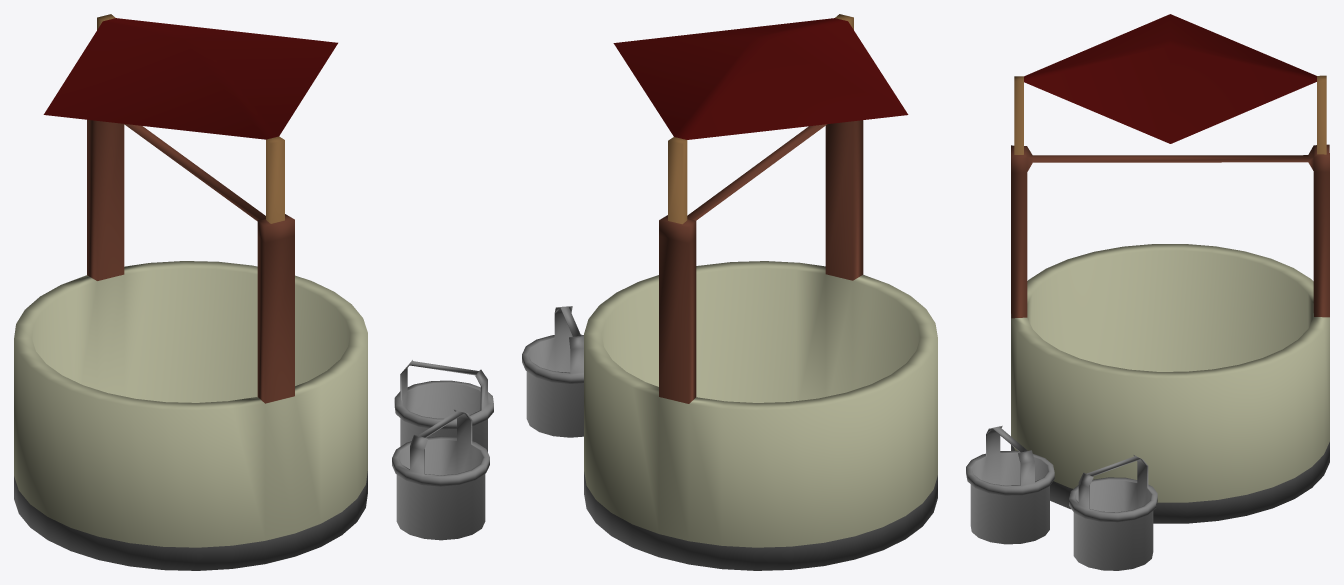
File: Borehole.glb
3 renders of one model, left to right at view 1: azimuth 30°, elevation 25°; view 2: azimuth 150°, elevation 25°; view 3: azimuth 270°, elevation 25°, orthographic. The views are drawn at different scales.
Visible parts, largest first — view 1: Borehole, Pail, Pail2; view 2: Borehole, Pail2; view 3: Borehole, Pail2, Pail.
Boxes of the visible parts, x1,y1,x2,y2 form: Borehole: (14, 14, 367, 570); Pail: (392, 409, 489, 540); Pail2: (394, 360, 493, 451); Borehole: (584, 14, 937, 570); Pail2: (522, 306, 583, 437); Borehole: (1011, 14, 1329, 523); Pail2: (1069, 455, 1157, 570); Pail: (966, 425, 1054, 544).
Bounding box in the file's own units: 2.72 × 2.85 × 2.27.
Materials: 4 (3 with a texture image).
